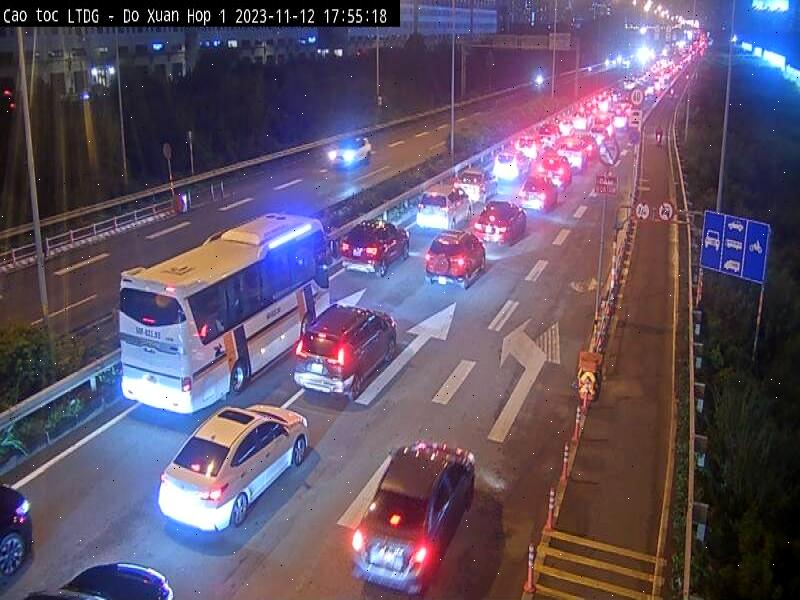bus: (119, 207, 335, 417)
